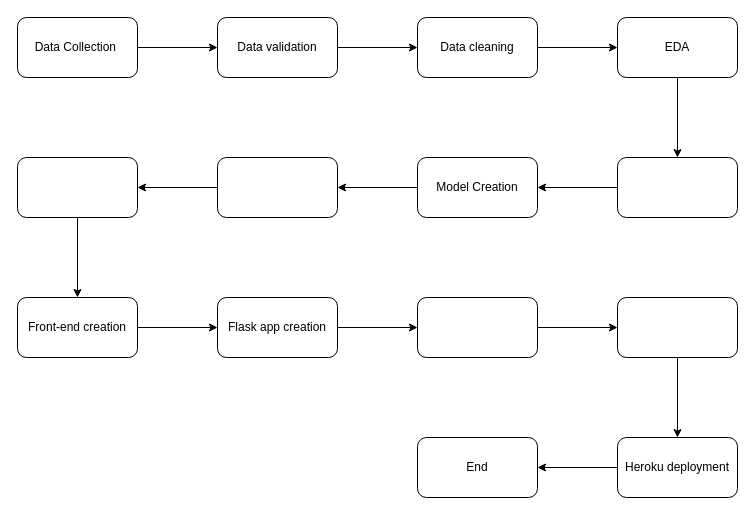
Image size: 755x515. Some labels were removed from this diagram. Each missing label, with the centre of its shape:
"Cloud setup" belongs at pixel 677 327.
"Feature Engineering" belongs at pixel 677 187.
"Hyper-parameter tunning" belongs at pixel 277 187.
"Model-Dump" belongs at pixel 77 187.
"Test-case validation" belongs at pixel 477 327.
